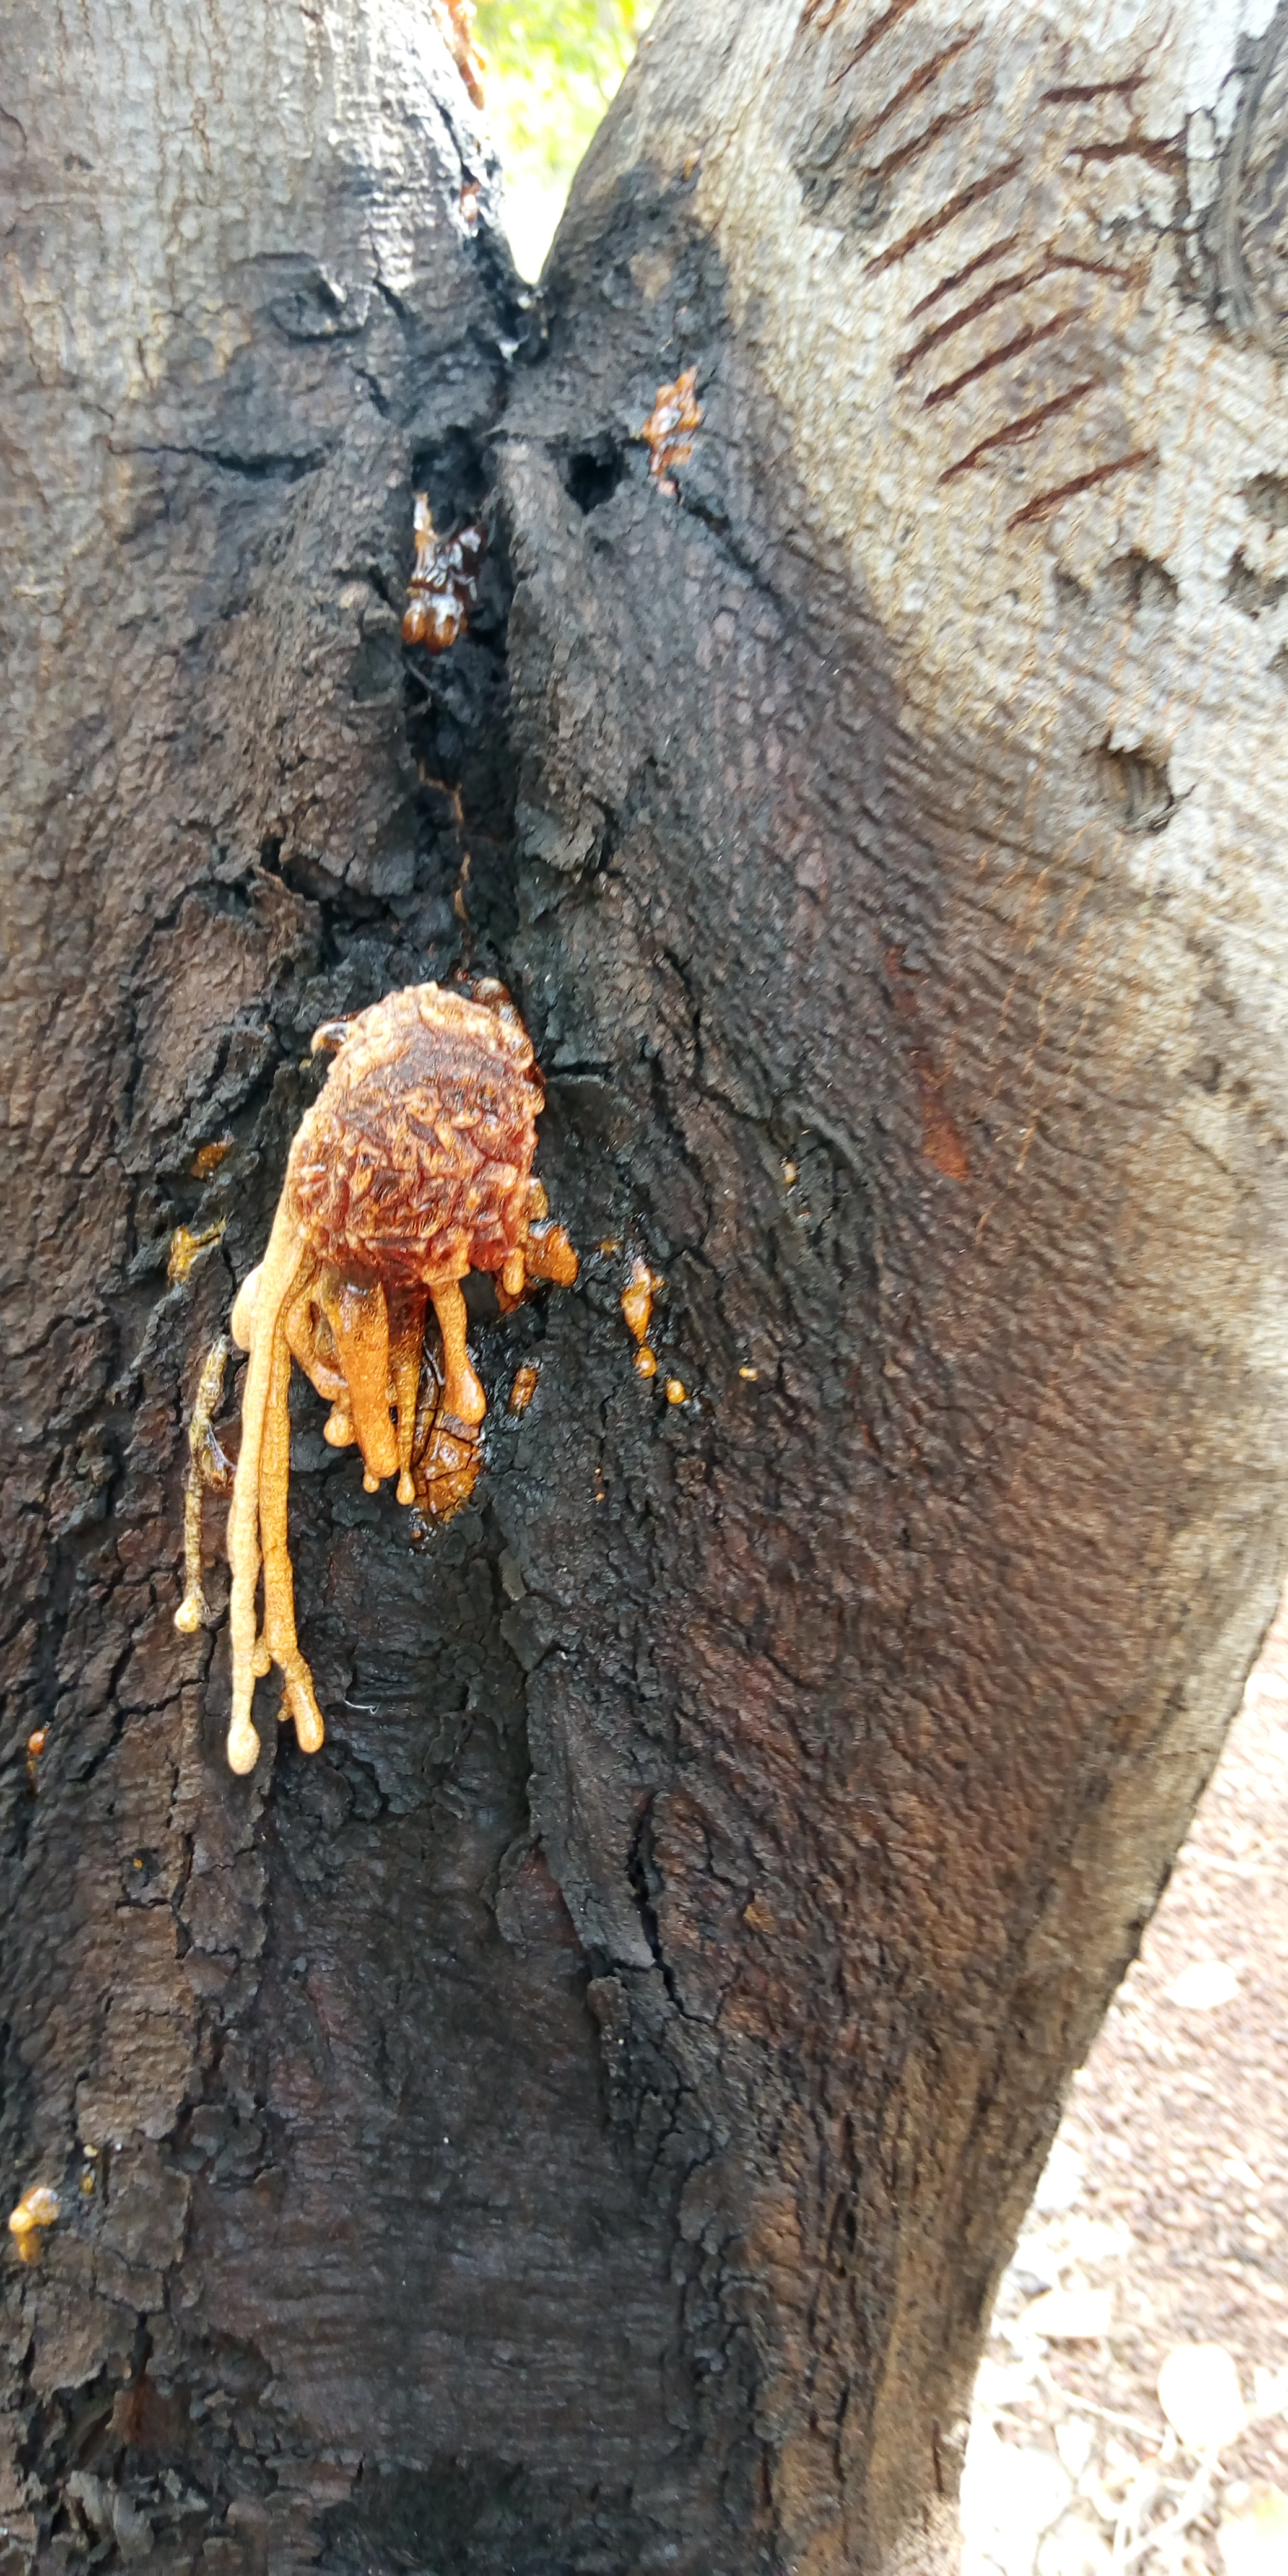Gommose: (120, 950, 797, 2576), (227, 243, 808, 917)
